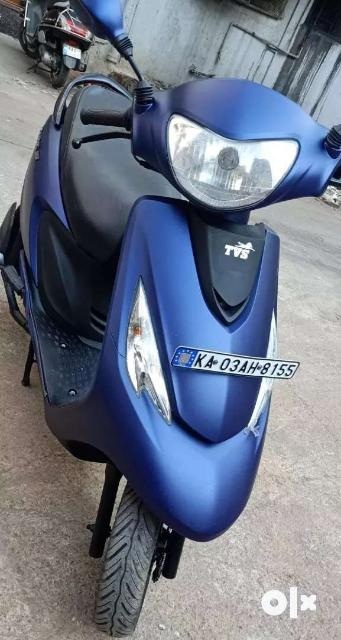Indian_Number_Plate: (171, 348, 300, 381)
